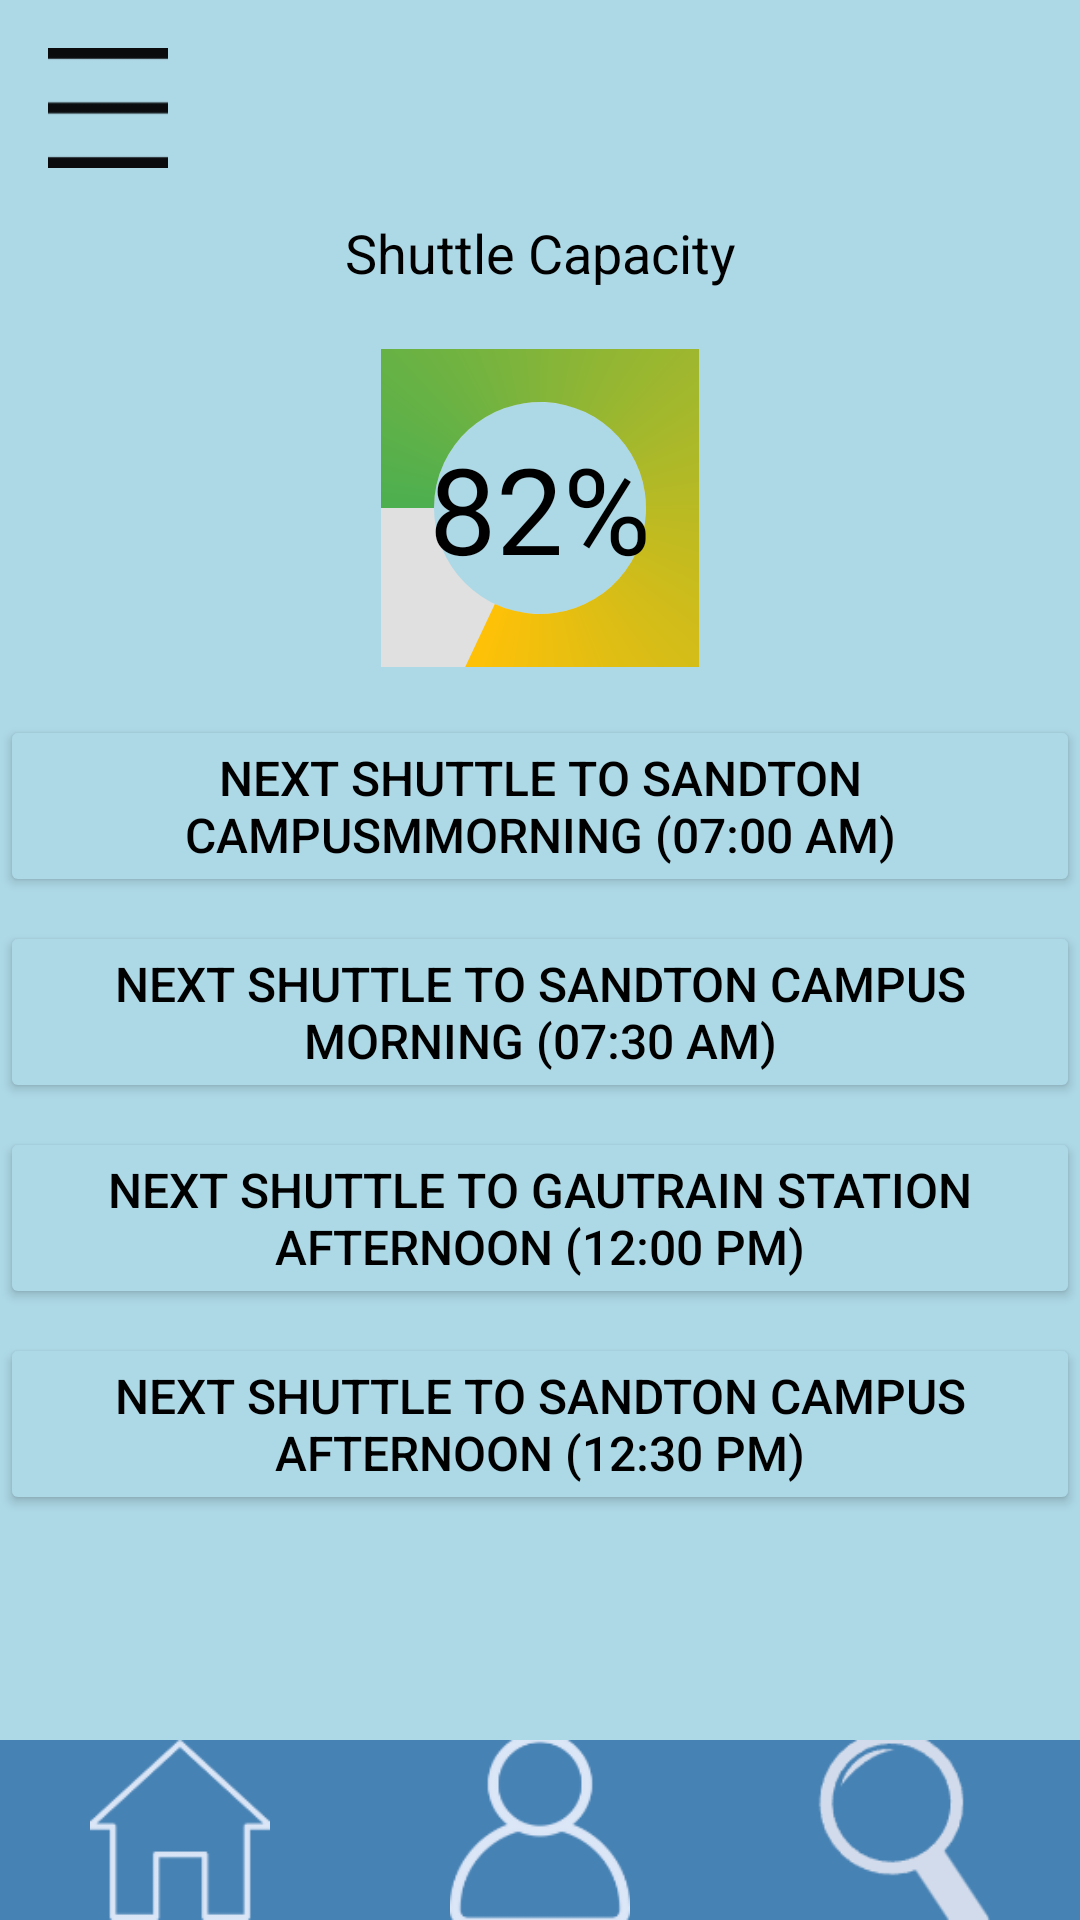

Icons on this 1080w x 1920h Android screen, each with the point to tap as (x=x, y=y):
Home: (x=180, y=1830)
menu: (x=108, y=108)
Profile: (x=540, y=1830)
Search: (x=900, y=1830)
